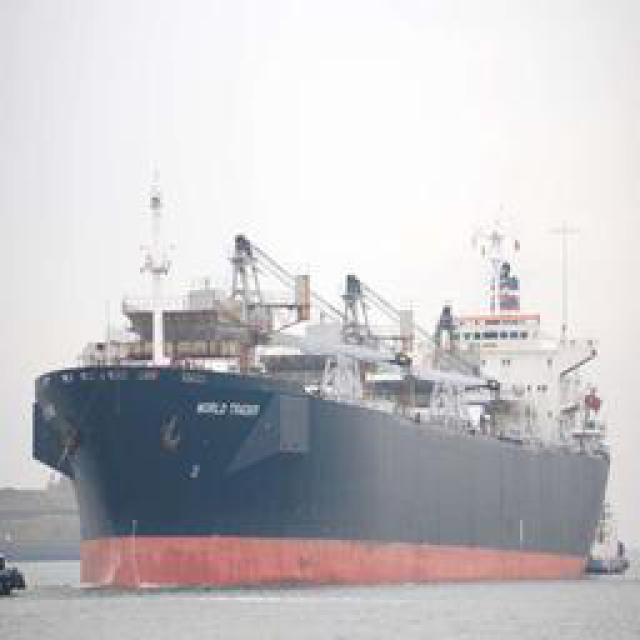Ship: (30, 231, 615, 586)
